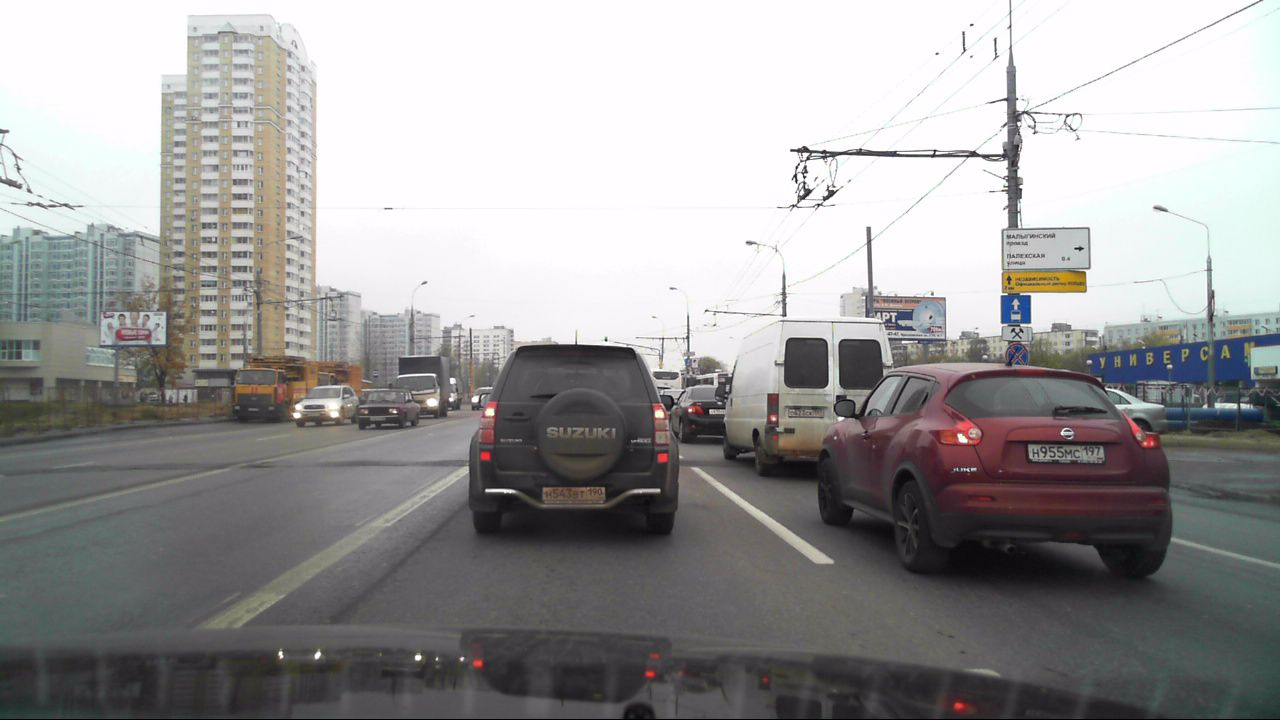No Parking: (1005, 344, 1027, 366)
